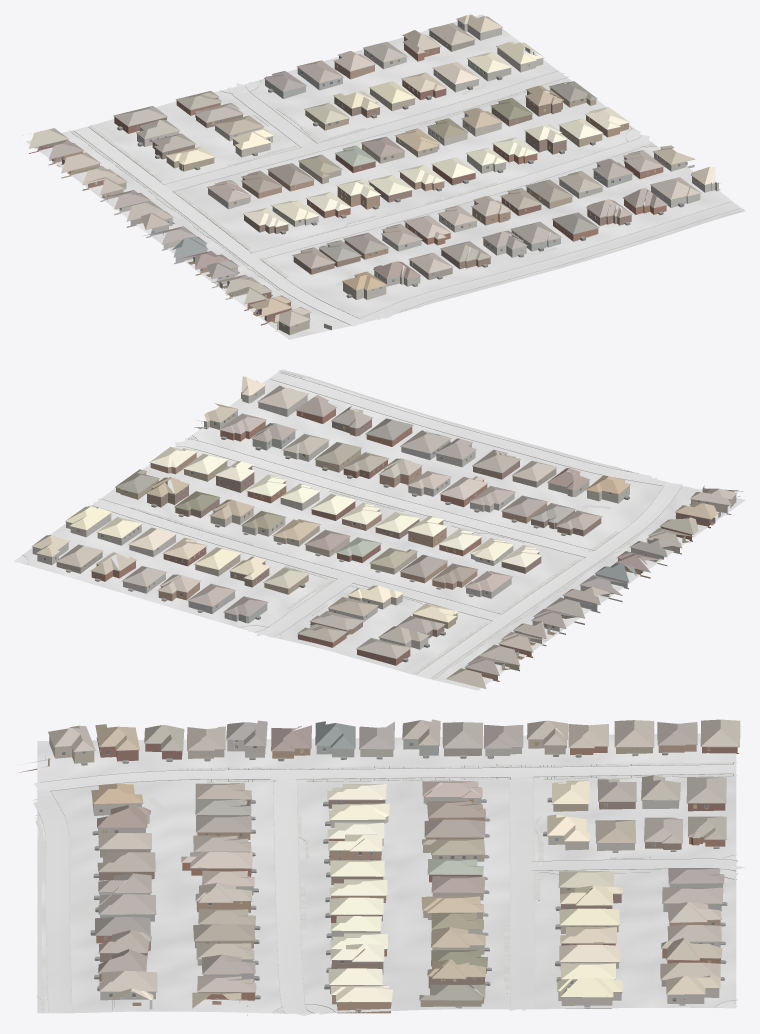
3 views of the same model, one above another, from view 1: azimuth 30°, elevation 25°; view 2: azimuth 150°, elevation 25°; view 3: azimuth 270°, elevation 25° (orthographic). The views are drawn at different scales.
Visible parts, largest first — view 1: ground, roof, wall, concrete, wall_stucco, detail, asphalt, curb, walk, wall_stone, glass; view 2: roof, ground, wall, concrete, wall_stucco, detail, asphalt, curb, walk, wall_stone, glass; view 3: roof, ground, concrete, wall, detail, asphalt, walk, wall_stucco, curb, wall_stone, mark_w, glass.
Boxes of the visible parts, x1=… form: ground: x1=26, y1=14, x2=745, y2=339; roof: x1=29, y1=14, x2=715, y2=326; wall: x1=29, y1=30, x2=666, y2=335; concrete: x1=164, y1=14, x2=738, y2=322; wall_stucco: x1=146, y1=48, x2=694, y2=299; detail: x1=29, y1=19, x2=720, y2=330; asphalt: x1=75, y1=127, x2=364, y2=326; curb: x1=71, y1=70, x2=740, y2=325; walk: x1=69, y1=83, x2=744, y2=311; wall_stone: x1=114, y1=20, x2=720, y2=288; glass: x1=39, y1=24, x2=687, y2=318; roof: x1=32, y1=376, x2=736, y2=688; ground: x1=14, y1=369, x2=745, y2=690; wall: x1=56, y1=402, x2=739, y2=681; concrete: x1=15, y1=373, x2=670, y2=637; wall_stucco: x1=66, y1=411, x2=681, y2=623; detail: x1=32, y1=381, x2=742, y2=678; asphalt: x1=417, y1=483, x2=682, y2=677; curb: x1=22, y1=371, x2=682, y2=678; walk: x1=130, y1=369, x2=647, y2=680; wall_stone: x1=32, y1=380, x2=667, y2=649; glass: x1=43, y1=414, x2=709, y2=672; roof: x1=48, y1=719, x2=740, y2=1008; ground: x1=37, y1=733, x2=736, y2=1013; concrete: x1=32, y1=777, x2=744, y2=1016; wall: x1=19, y1=736, x2=738, y2=1013; detail: x1=22, y1=729, x2=739, y2=1012; asphalt: x1=34, y1=764, x2=733, y2=792; walk: x1=35, y1=762, x2=737, y2=1013; wall_stucco: x1=92, y1=739, x2=722, y2=1015; curb: x1=37, y1=764, x2=737, y2=1013; wall_stone: x1=99, y1=740, x2=720, y2=1010; mark_w: x1=41, y1=765, x2=732, y2=865; glass: x1=62, y1=740, x2=714, y2=1001.
Bounding box in the file's own units: 262 × 20.14 × 262.
